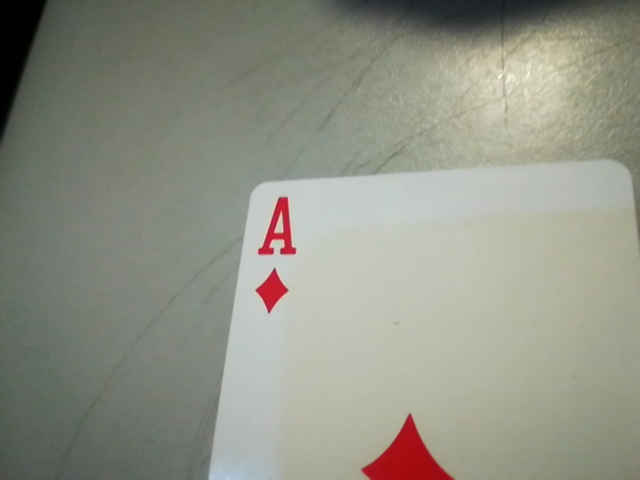fk a: (243, 191, 306, 317)
